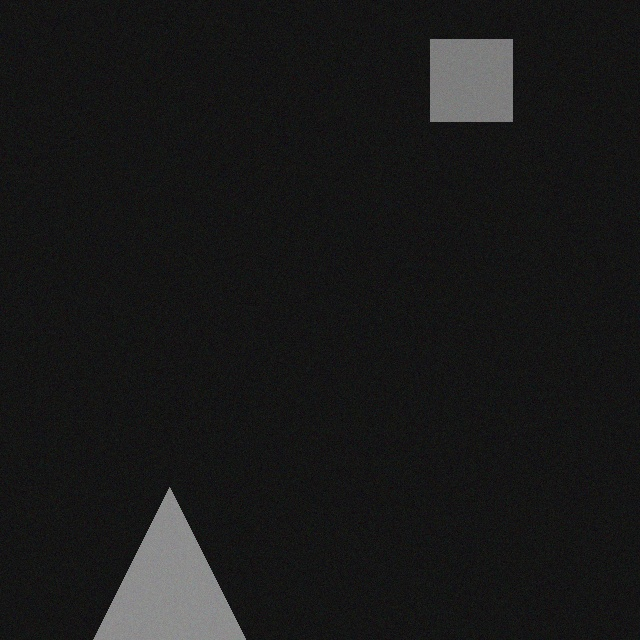square: (422, 25, 504, 107)
triangle: (79, 473, 244, 638)
